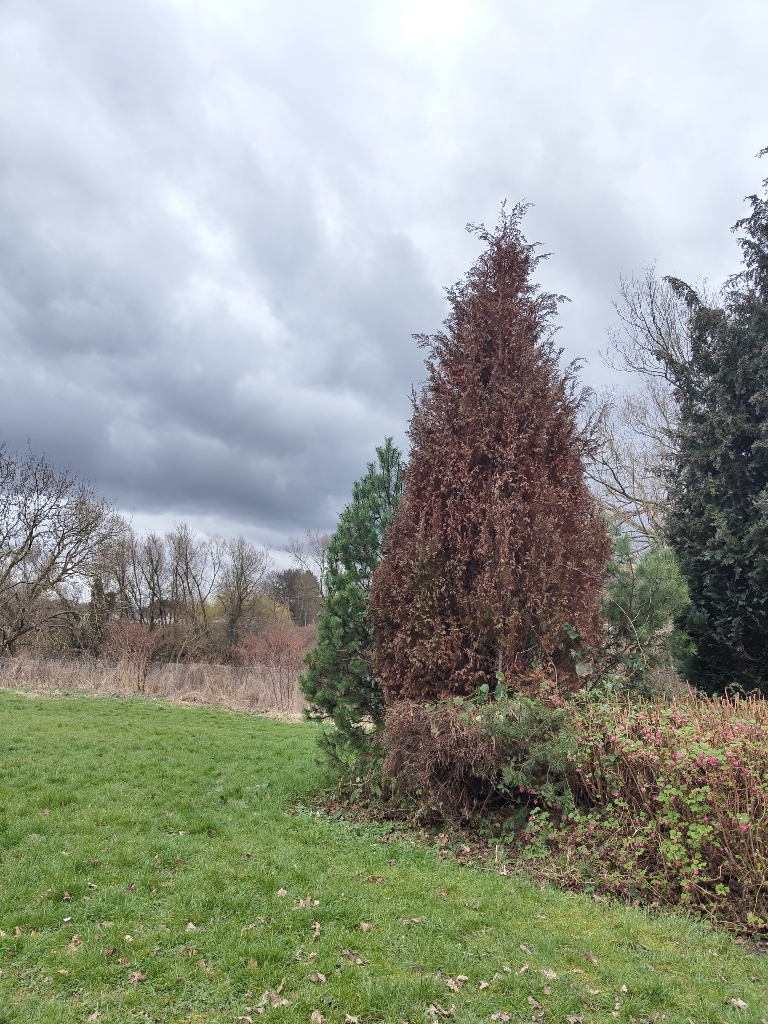Tree: (366, 192, 618, 712)
